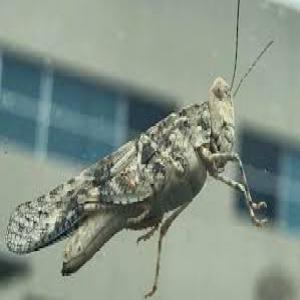locust: (10, 37, 247, 274)
